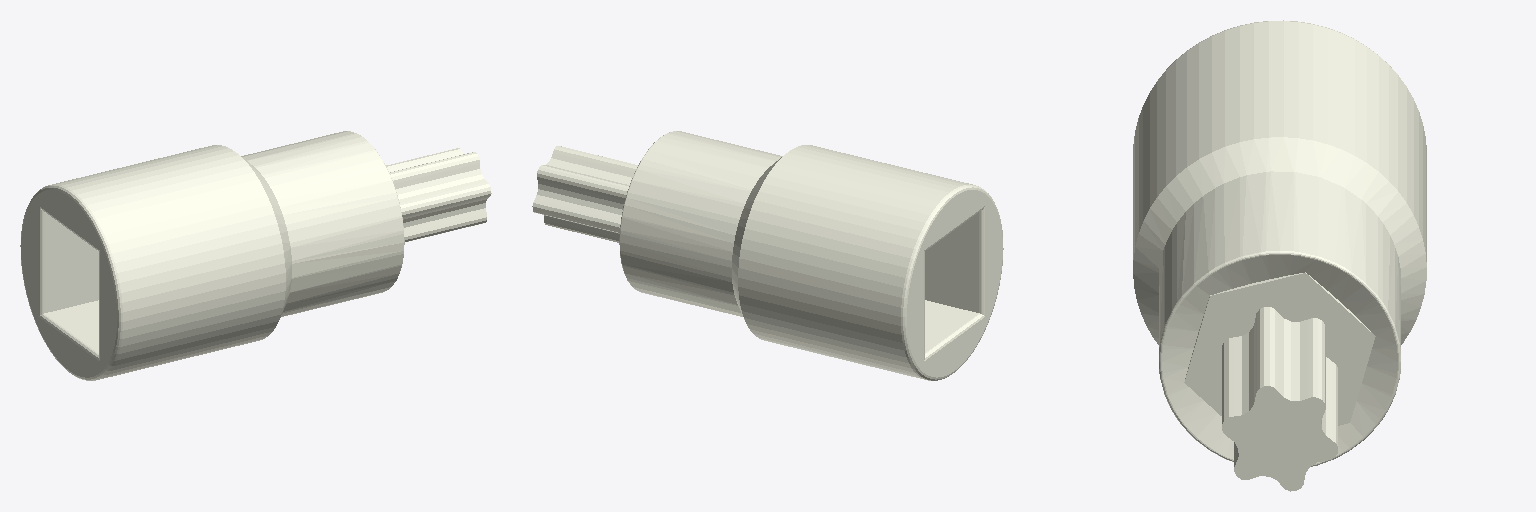
robot.urdf — star_sleeve:
<?xml version="1.0" encoding="utf-8"?>
<!-- This URDF was automatically created by SolidWorks to URDF Exporter! Originally created by [author] ([email redacted]) 
     Commit Version: 1.6.0-4-g7f85cfe  Build Version: 1.6.7995.38578
     For more information, please see http://wiki.ros.org/sw_urdf_exporter -->
<robot
  name="star_sleeve">
  <link
    name="star_sleeve_base_link">
    <inertial>
      <origin
        xyz="-1.3878E-17 4.1633E-17 -1.7347E-17"
        rpy="0 0 0" />
      <mass
        value="0.011338" />
      <inertia
        ixx="7.4612E-07"
        ixy="-3.6954E-13"
        ixz="-1.3504E-13"
        iyy="1.4267E-06"
        iyz="-1.8927E-13"
        izz="1.4267E-06" />
    </inertial>
    <visual>
      <origin
        xyz="0 0 0"
        rpy="0 0 0" />
      <geometry>
        <mesh
          filename="package://star_sleeve/meshes/star_sleeve_base_link.dae" />
      </geometry>
      <material
        name="">
        <color
          rgba="0.99608 1 0.93725 1" />
      </material>
    </visual>
    <collision>
      <origin
        xyz="0 0 0"
        rpy="0 0 0" />
      <geometry>
        <mesh
          filename="package://star_sleeve/meshes/star_sleeve_base_link.dae" />
      </geometry>
    </collision>
  </link>
</robot>

--- Facts derived from the render (not from the file) ---
Views: 3 orthographic renders of the robot side by side, from view 1: azimuth 30°, elevation 25°; view 2: azimuth 150°, elevation 25°; view 3: azimuth 270°, elevation 25°.
Model star_sleeve with 1 links and 0 joints (none), rooted at star_sleeve_base_link, posed all joints at 0.
Visible links, largest first — view 1: star_sleeve_base_link; view 2: star_sleeve_base_link; view 3: star_sleeve_base_link.
Link boxes in pixels (left/top/right/bottom): star_sleeve_base_link: left=20, top=131, right=491, bottom=380; star_sleeve_base_link: left=532, top=131, right=1003, bottom=380; star_sleeve_base_link: left=1133, top=20, right=1426, bottom=491.
Bounding box of the posed robot: 0.0532 × 0.023 × 0.023 m (x, y, z).
Meshes: 1 distinct files referenced, 1 mesh visuals loaded (1 Collada DAE).